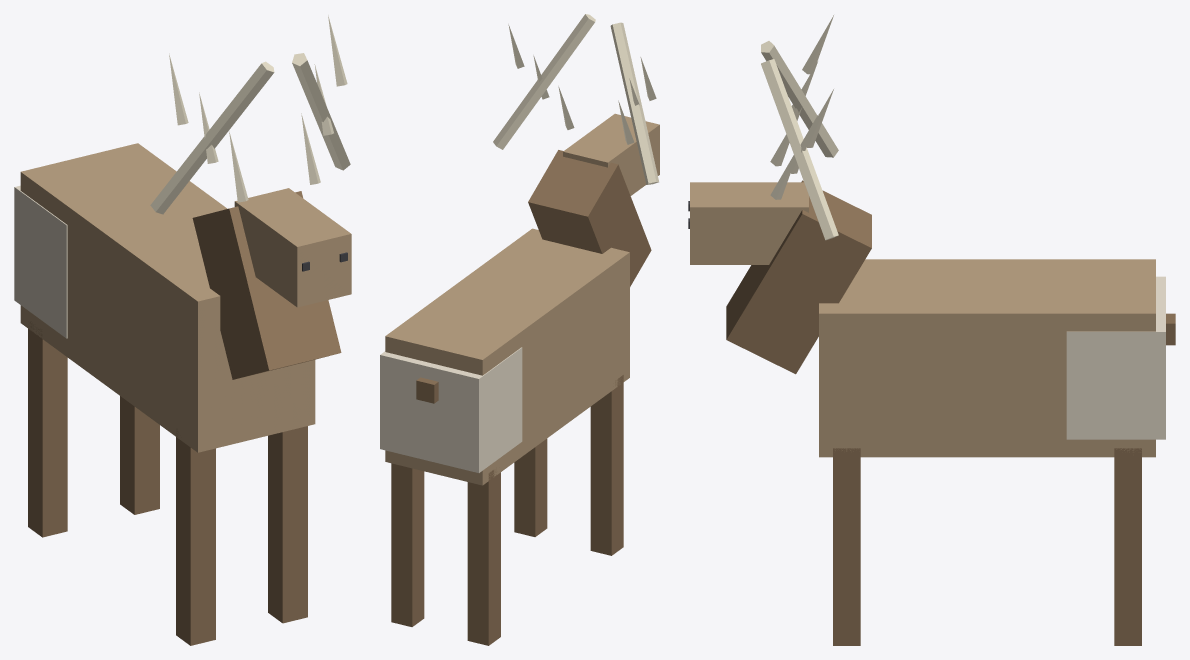
The model's file is elk.glb.
3 renders of one model, left to right at view 1: azimuth 30°, elevation 25°; view 2: azimuth 150°, elevation 25°; view 3: azimuth 270°, elevation 25°, orthographic. The views are drawn at different scales.
Parts seen in each view (by area): view 1: elk; view 2: elk; view 3: elk.
Part boxes in pixels (x1,y1,x2,y2): elk: (14,15,351,645); elk: (380,14,659,645); elk: (688,15,1175,645).
Size of the model in its own units: 1.09 by 3.16 by 2.46.
